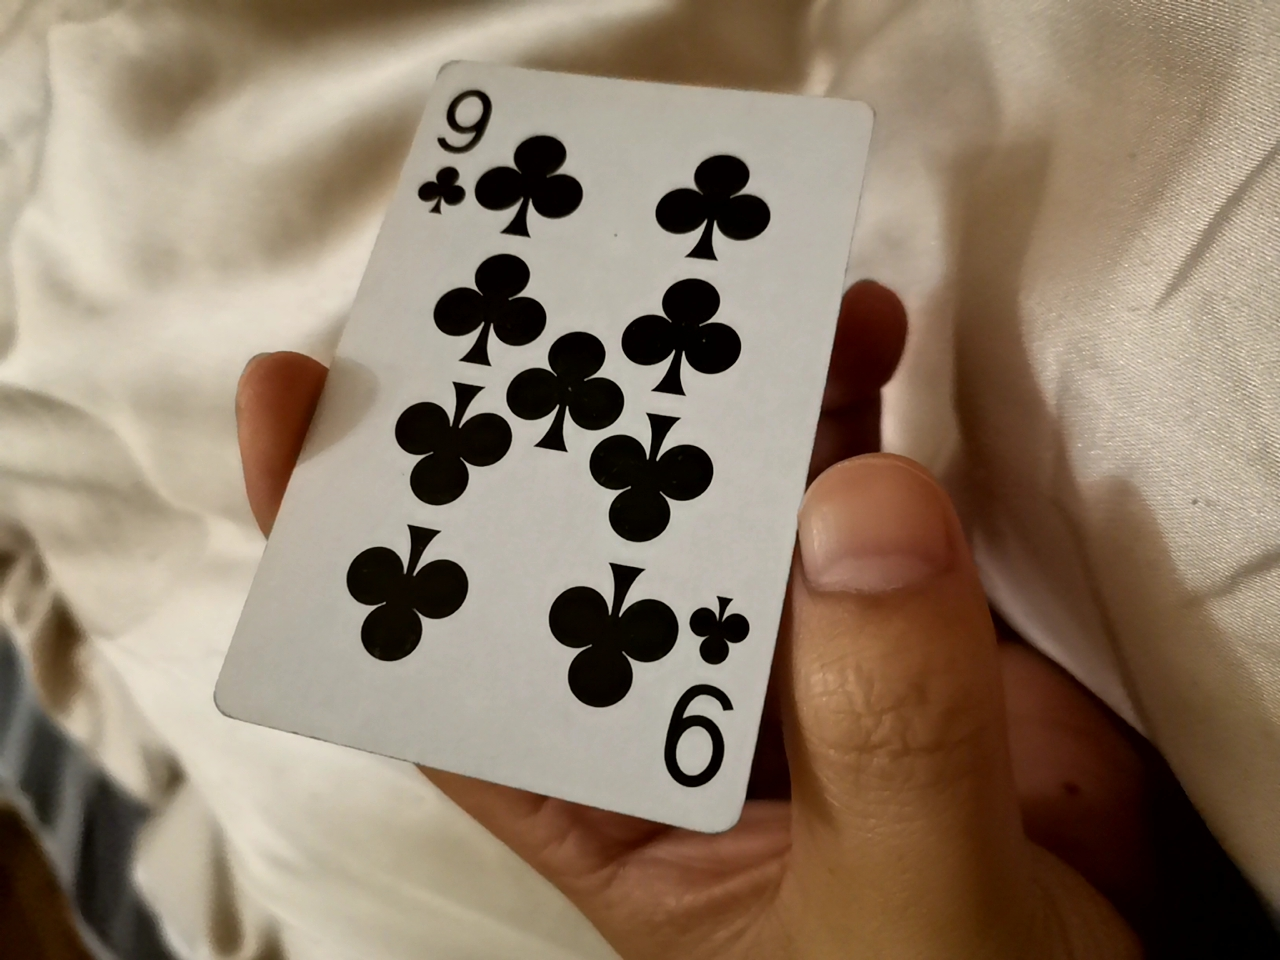mh 9: (243, 57, 917, 848)
